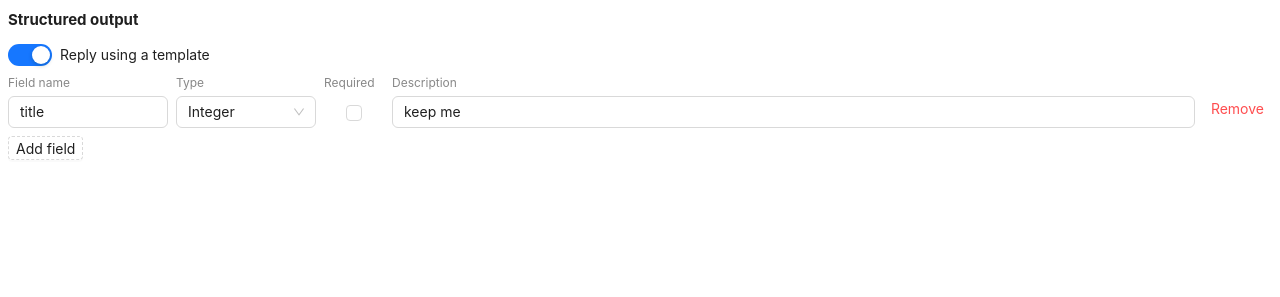
Test case: OutputSchemaEditor › per-row commit (review-fixed Important: no whole-table gate + no clobber-on-resync) › a transiently duplicate name never clobbers the earlier row's property (typing title2 next to seeded title)
Click the button with test id "af-output-schema-add". click: (46, 148)
box: [8, 136, 84, 160]
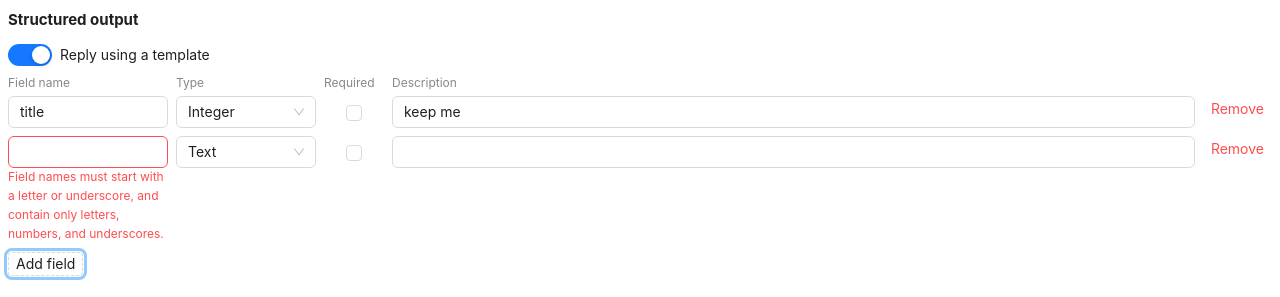
Type "title" into the field with test id "af-output-schema-name-1". click: (88, 152)
box: [8, 136, 168, 168]
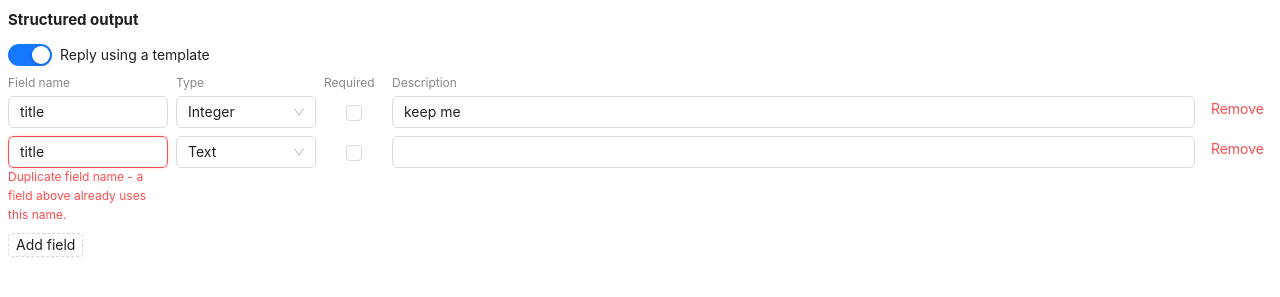
Check: the text "Duplicate field name - a field above already uses this name." is shown, box [8, 168, 168, 225]
# Finish the word — "title2" no longer collides: both rows land.
Type "2" into the field with test id "af-output-schema-name-1". click: (88, 152)
box: [8, 136, 168, 168]
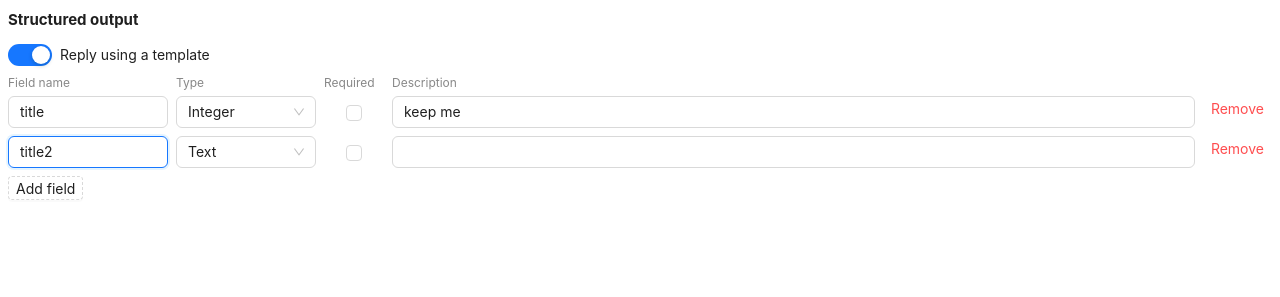
Check: the text "Duplicate field name - a field above already uses this name." is gone
